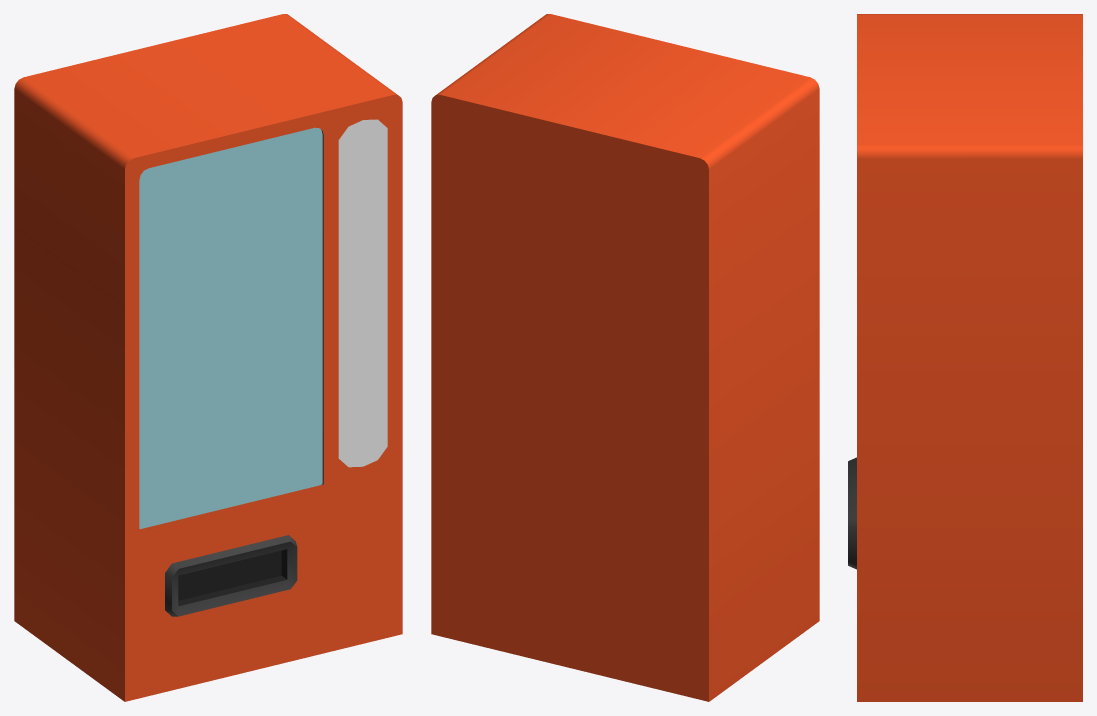
The model's file is vending.fbx.
The picture shows the model from 3 angles, left to right: view 1: azimuth 30°, elevation 25°; view 2: azimuth 150°, elevation 25°; view 3: azimuth 270°, elevation 25°; orthographic projection. The views are drawn at different scales.
Visible parts, largest first — view 1: vending; view 2: vending; view 3: vending.
Boxes of the visible parts, left/top/right/bottom form: vending: left=14, top=14, right=402, bottom=701; vending: left=431, top=14, right=819, bottom=701; vending: left=848, top=14, right=1082, bottom=701.
Bounding box in the file's own units: 1.82 × 3.39 × 1.3.
